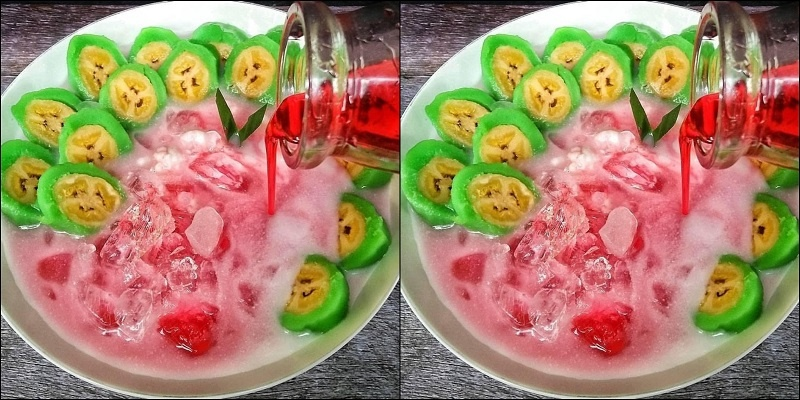pisang_ijo: (442, 159, 556, 235), (39, 158, 139, 240), (503, 61, 589, 142), (89, 60, 177, 139)
